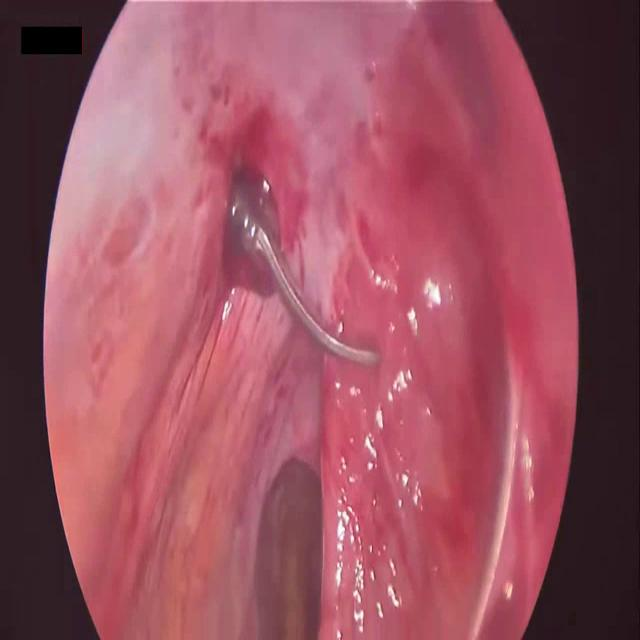surgical-area: (44, 2, 580, 639)
surgical-tool: (224, 164, 380, 371)
